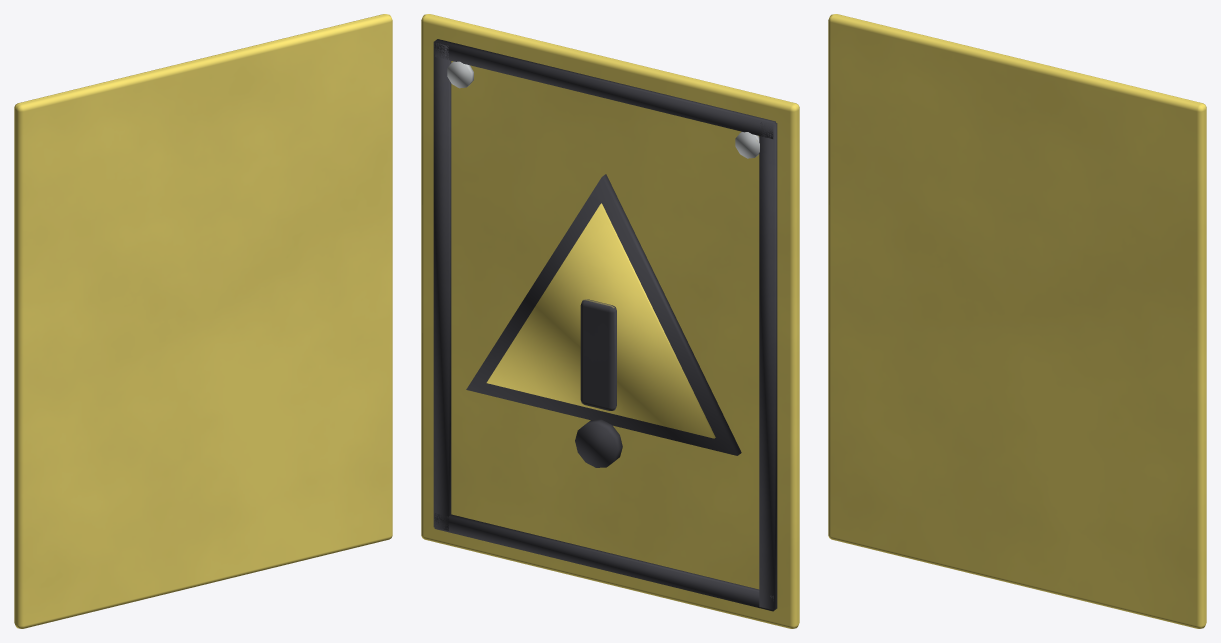
Rendered from Inspect_WarningNotice.fbx.
3 views of the same model, side by side, from view 1: azimuth 30°, elevation 25°; view 2: azimuth 150°, elevation 25°; view 3: azimuth 330°, elevation 25° (orthographic).
Parts seen in each view (by area): view 1: Inspect_WarningNotice; view 2: Inspect_WarningNotice; view 3: Inspect_WarningNotice.
Boxes of the visible parts, x1,y1,x2,y2 form: Inspect_WarningNotice: (14, 14, 392, 628); Inspect_WarningNotice: (421, 14, 799, 628); Inspect_WarningNotice: (828, 14, 1206, 628).
Bounding box in the file's own units: 0.3 × 0.4 × 0.025.
Materials: 1 (1 with a texture image).
